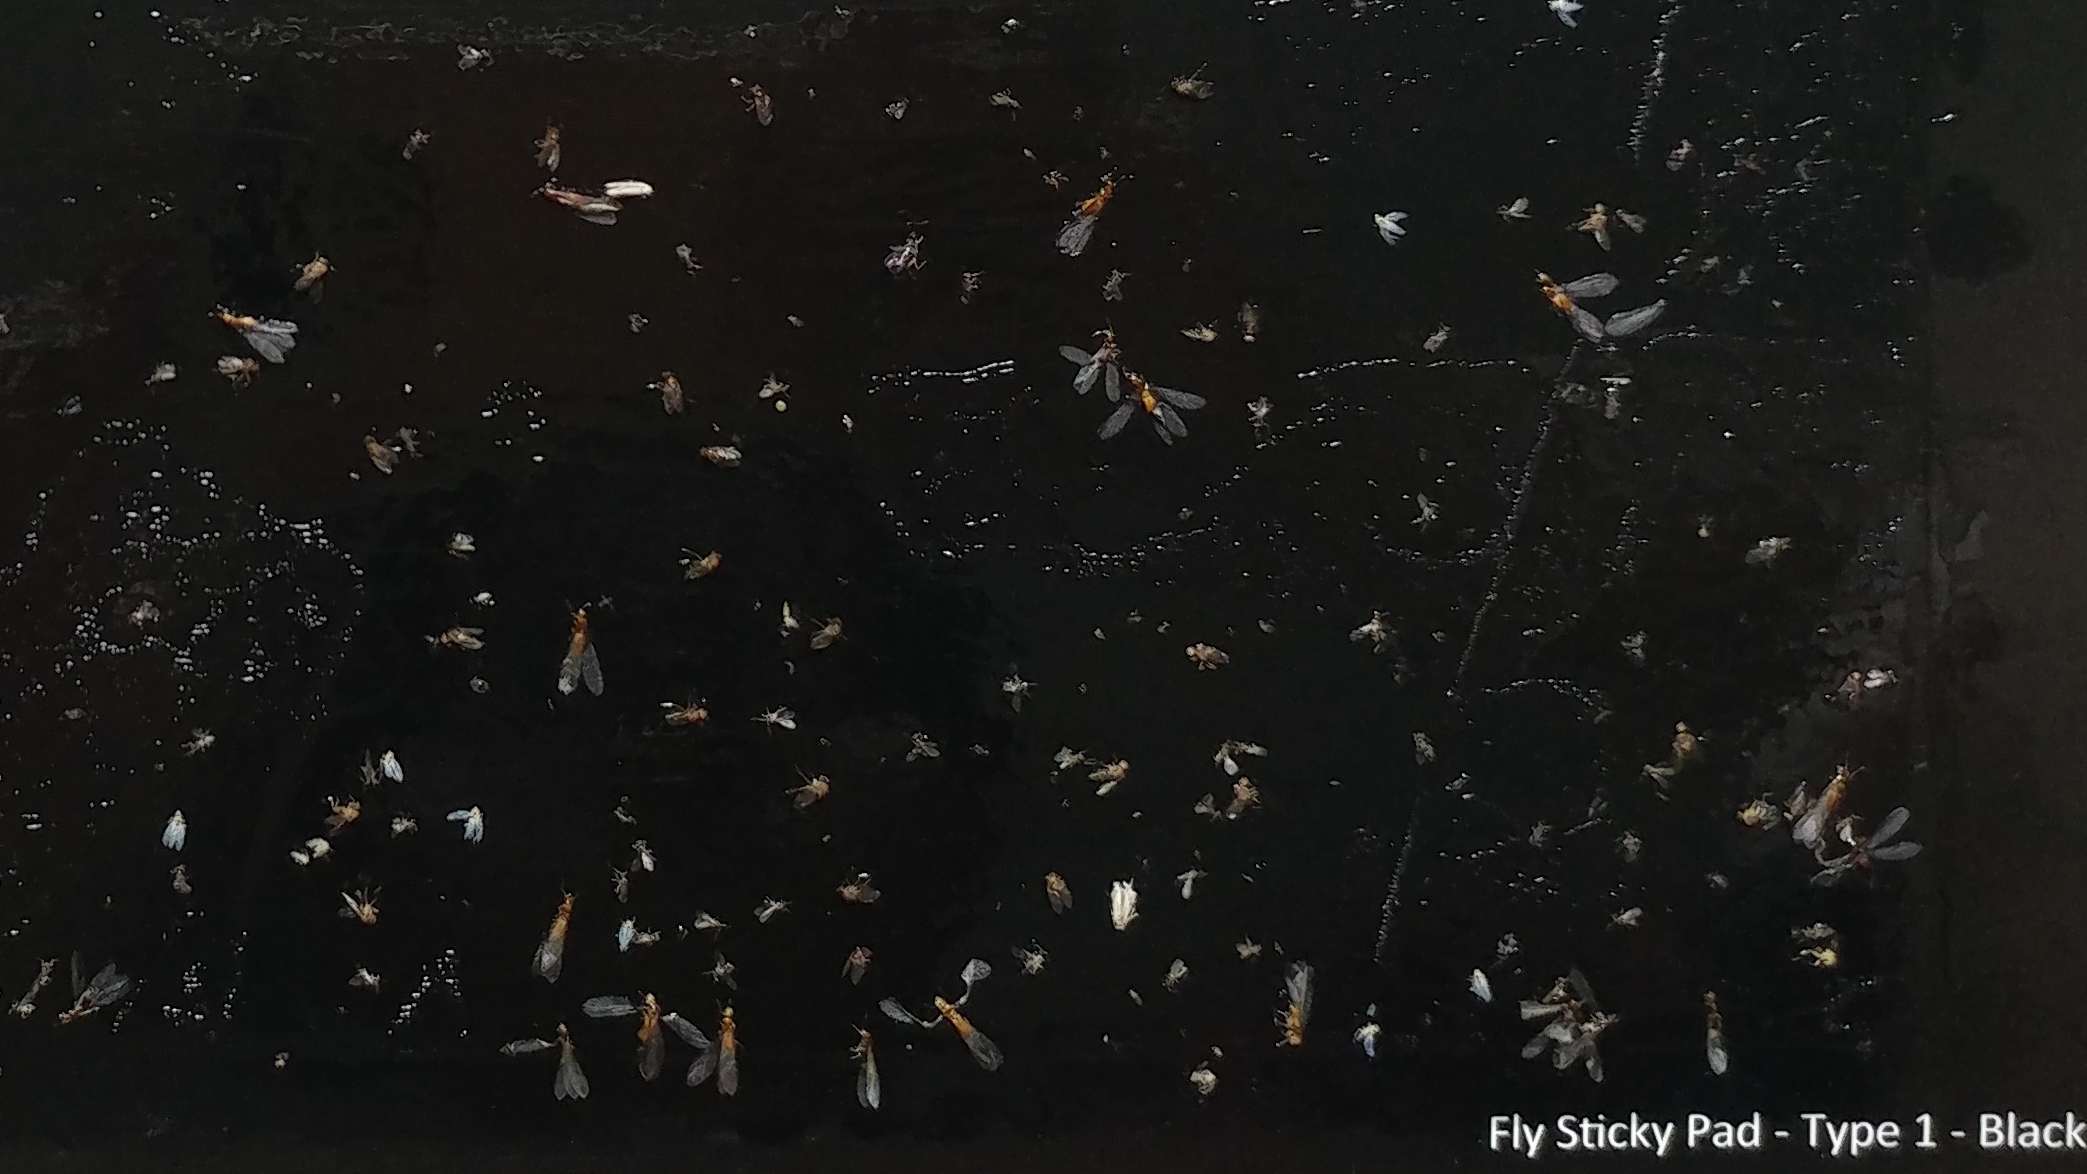termite: (869, 959, 1046, 1084), (593, 983, 692, 1089), (546, 589, 624, 712), (1527, 267, 1630, 353), (664, 989, 745, 1094), (522, 870, 583, 991), (843, 1019, 899, 1120)
